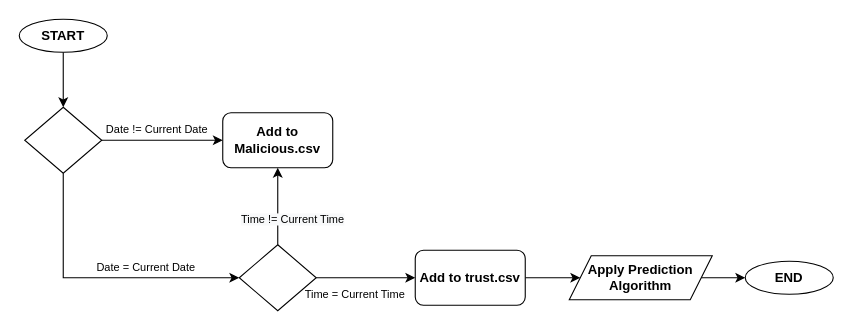
Image size: 853x330. Some labels were removed from this diagram. The centre of each missing label's shape, as x and y in pixels:
Check Date: [63,139]
Check Time: [277,277]
